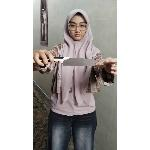Pisau: (37, 54, 101, 72)
